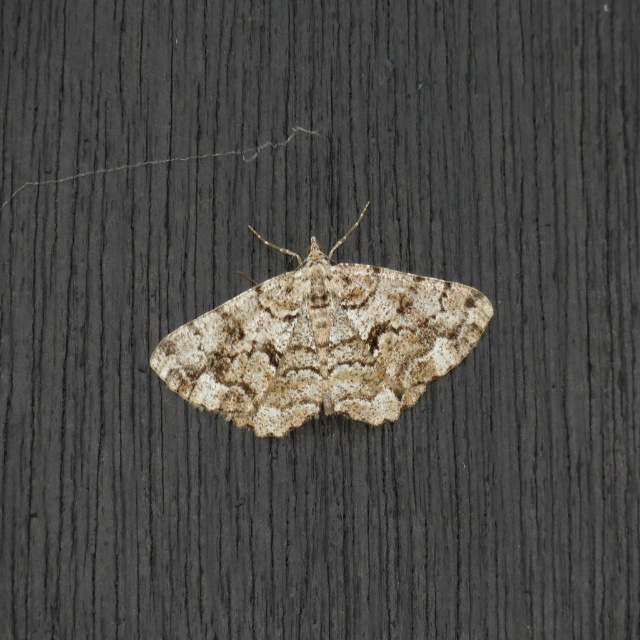Moths and butterflies: (148, 197, 496, 441)
